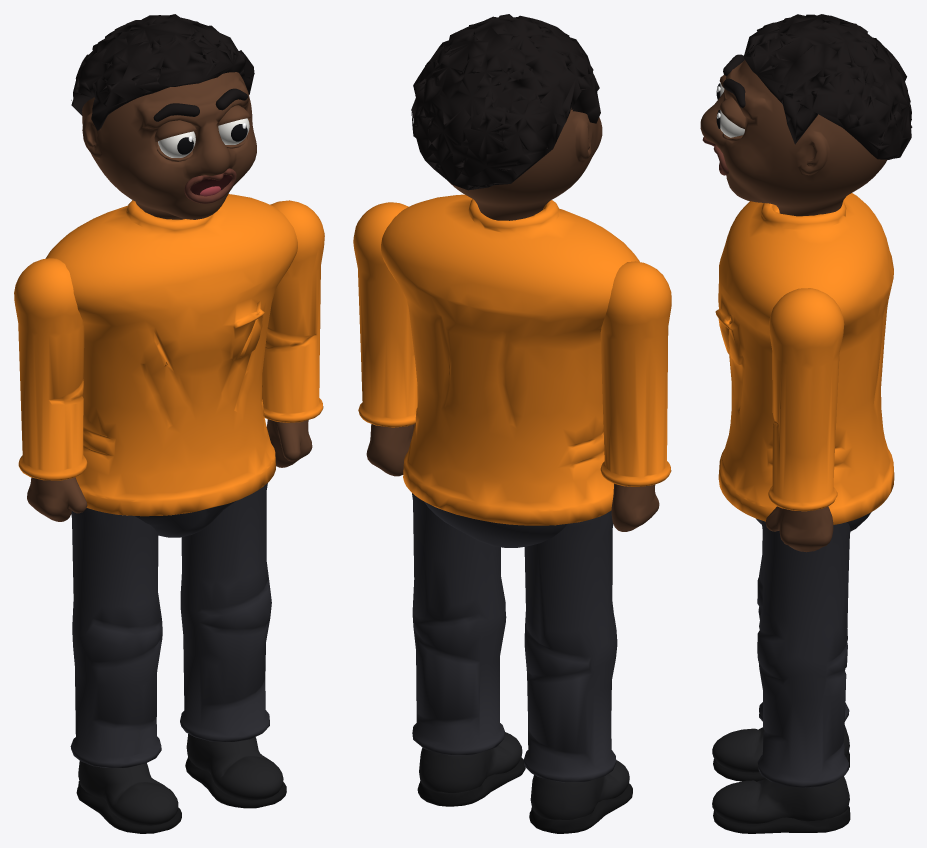
File: liner_2.glb
3 views of the same model, side by side, from view 1: azimuth 30°, elevation 25°; view 2: azimuth 150°, elevation 25°; view 3: azimuth 270°, elevation 25° (orthographic). The views are drawn at different scales.
Visible parts, largest first — view 1: Body_Mesh, Head_Mesh, LegR_Mesh, LegL_Mesh, ArmR_Mesh, ArmL_Mesh, Mouth; view 2: Body_Mesh, Head_Mesh, LegR_Mesh, LegL_Mesh, ArmR_Mesh, ArmL_Mesh; view 3: Body_Mesh, Head_Mesh, LegL_Mesh, ArmL_Mesh, LegR_Mesh.
Part boxes in pixels (<box>): Body_Mesh: <box>45,194,297,537</box>; Head_Mesh: <box>71,14,256,219</box>; LegR_Mesh: <box>70,508,181,833</box>; LegL_Mesh: <box>180,483,286,808</box>; ArmR_Mesh: <box>14,258,87,521</box>; ArmL_Mesh: <box>262,200,324,467</box>; Mouth: <box>184,168,236,203</box>; Body_Mesh: <box>381,194,639,547</box>; Head_Mesh: <box>411,14,602,220</box>; LegR_Mesh: <box>523,510,632,833</box>; LegL_Mesh: <box>412,493,525,806</box>; ArmR_Mesh: <box>600,261,671,531</box>; ArmL_Mesh: <box>353,202,417,476</box>; Body_Mesh: <box>715,193,894,531</box>; Head_Mesh: <box>700,14,912,216</box>; LegL_Mesh: <box>712,520,850,833</box>; ArmL_Mesh: <box>765,288,844,552</box>; LegR_Mesh: <box>712,532,849,781</box>.
Bounding box in the file's own units: 0.8696 × 2.11 × 0.5248.
